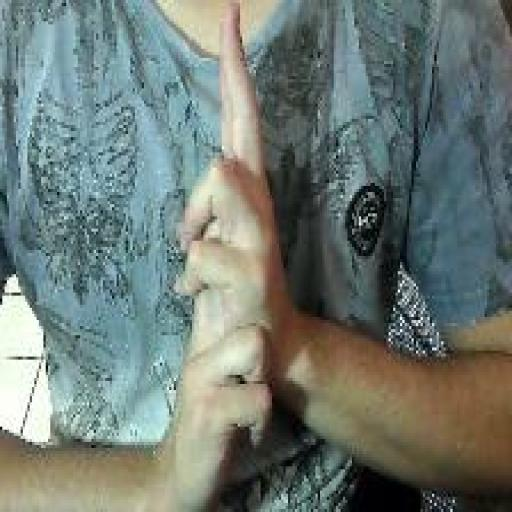Hitsuji -ram-: (171, 2, 286, 510)
